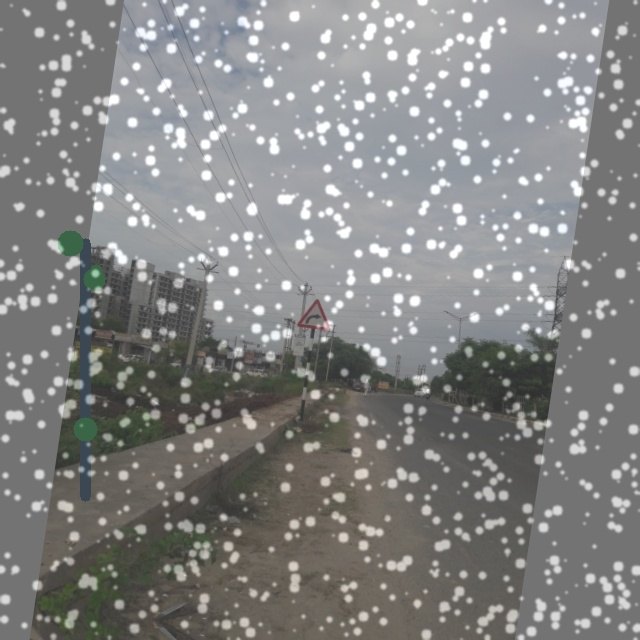Right_Hand_Curve: (295, 295, 335, 335)
